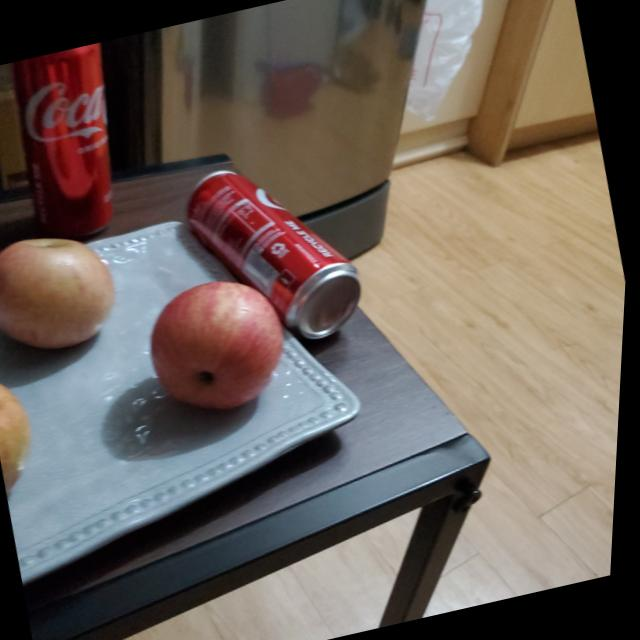apple: (139, 264, 312, 429), (0, 220, 132, 362), (0, 360, 56, 516)
coke: (173, 146, 383, 370), (7, 44, 151, 248)
